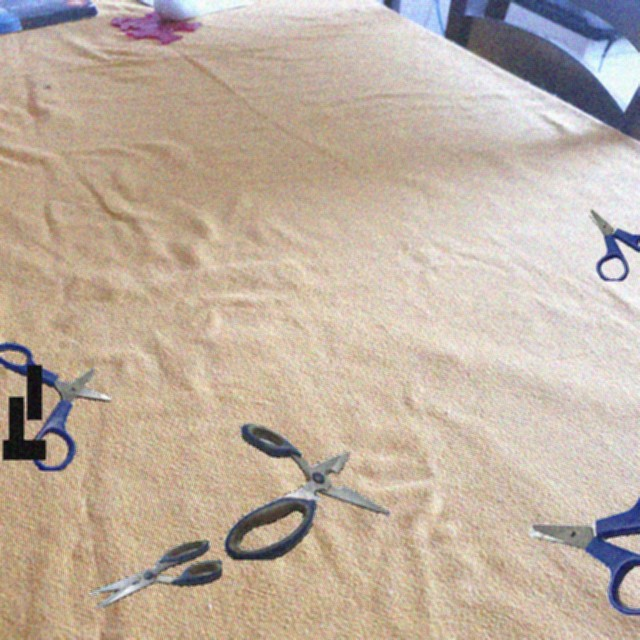scissors: (224, 423, 390, 560), (530, 477, 640, 615), (0, 342, 111, 471), (89, 538, 222, 608), (589, 209, 640, 281)
